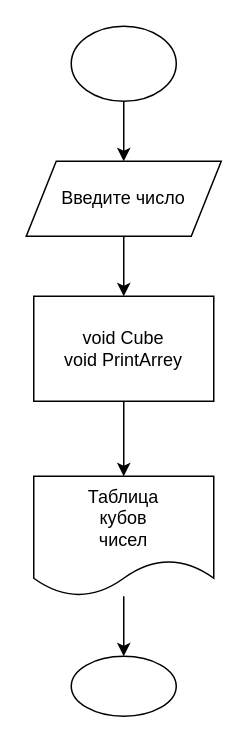
Some shapes in this 248 by 743 pixel diagram are drawn without their labels. Each missing label, with the centre of its shape:
END: (123,685)
Start: (123,63)
